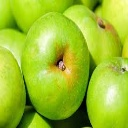apple: (86, 57, 128, 128)
